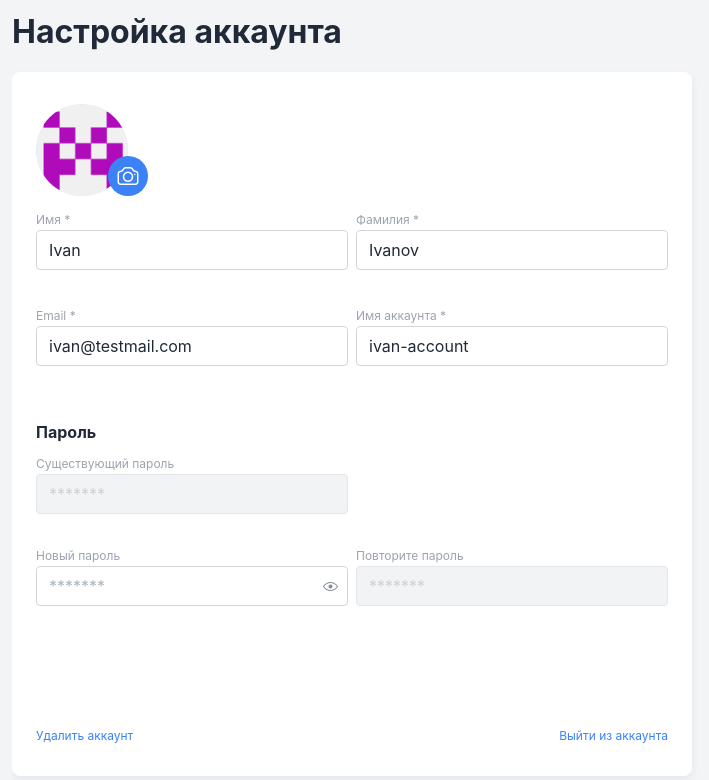
Test: ProfilePage › saves profile changes and shows success feedback
This screenshot has width=709, height=780.
Replace the text in the field labelled "Имя *" with "Petr": (192, 250) [36,230,348,270]
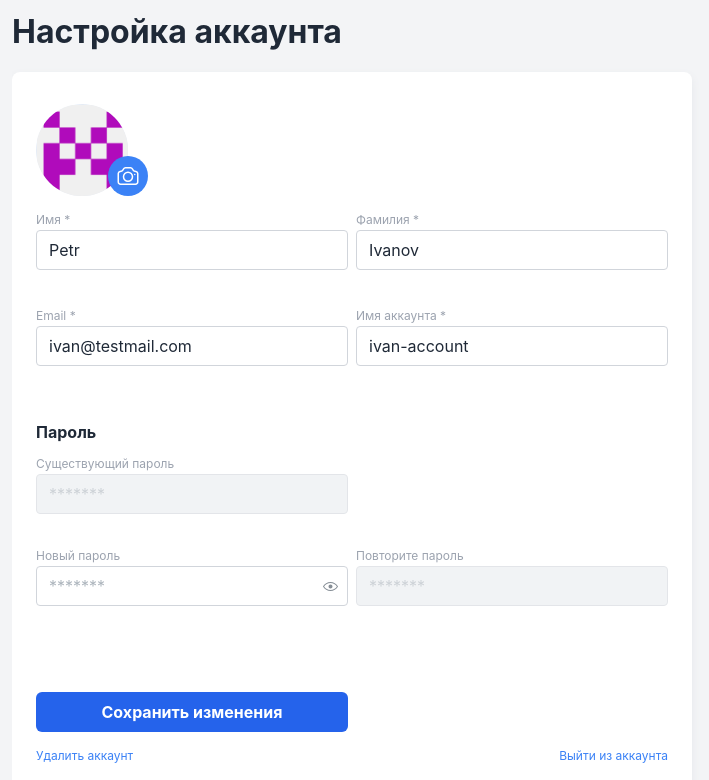
Click the button "Сохранить изменения": (192, 712) [36,692,348,732]
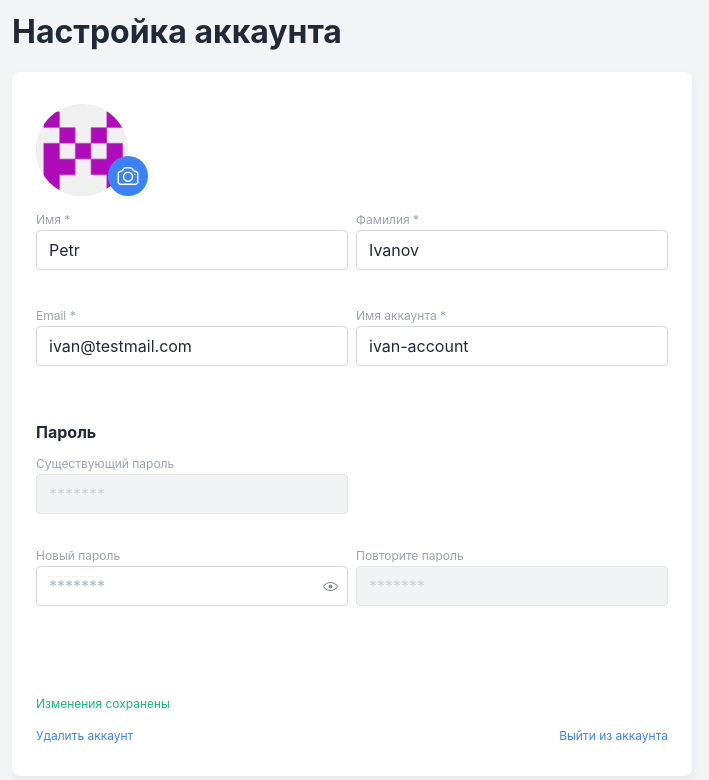
Expected: the text "Изменения сохранены" is shown, [36,696,170,711]
